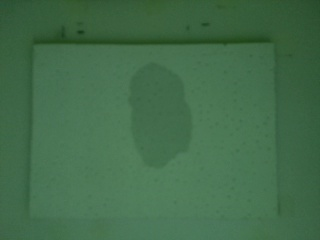Water_detected: (129, 79, 189, 158)
